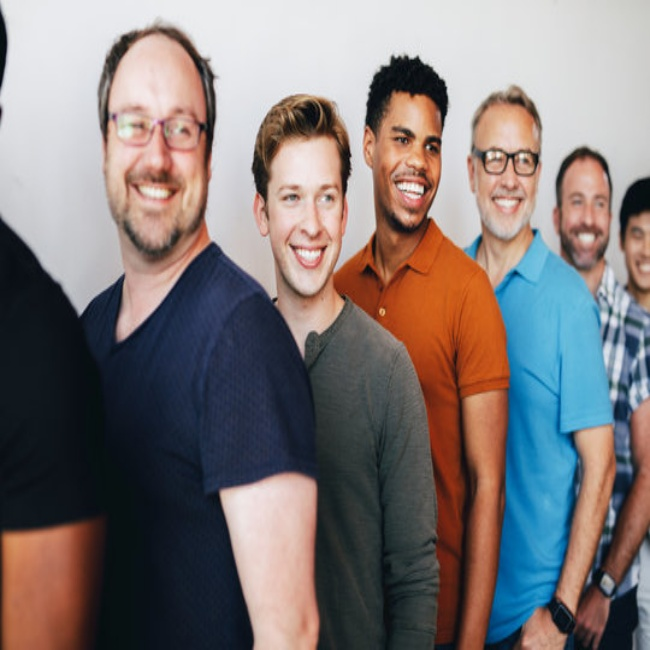Shirt: (77, 240, 318, 650), (331, 217, 511, 646), (462, 227, 616, 647), (302, 293, 441, 650), (575, 261, 650, 598)
